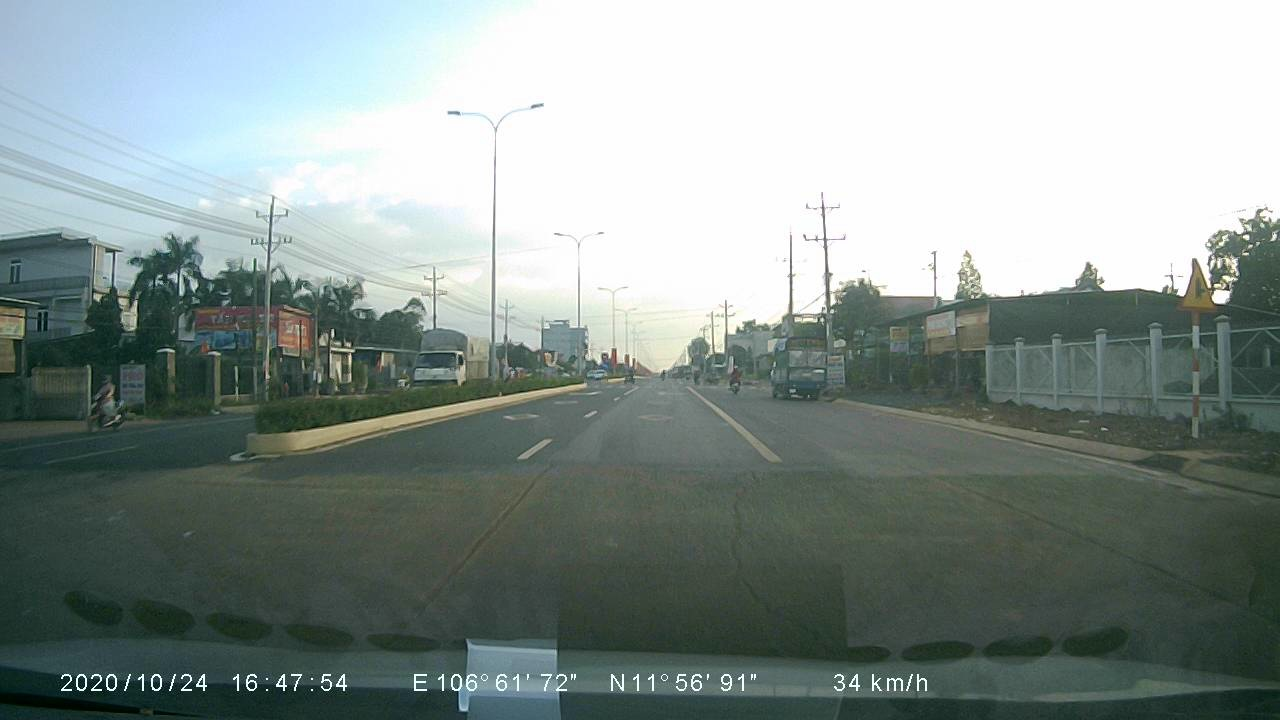Giao nhau voi duong khong uu tien: (1176, 253, 1225, 315)
